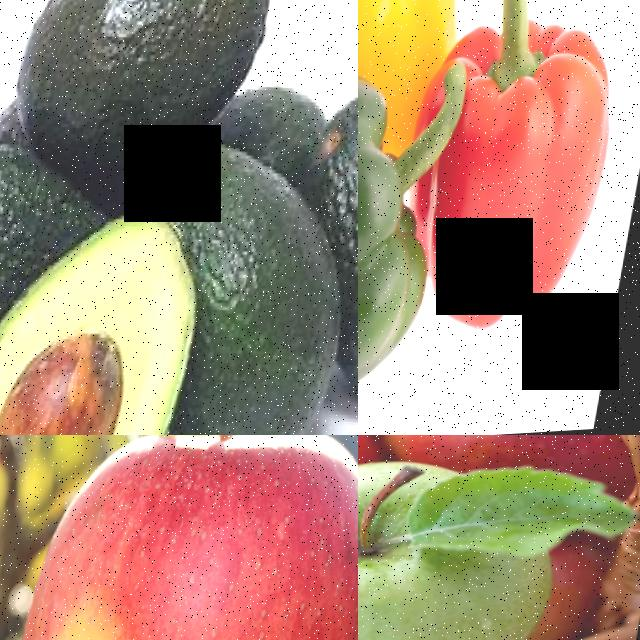apple: (0, 435, 358, 640), (358, 435, 566, 640), (363, 435, 640, 502)
avocado: (1, 0, 285, 197), (0, 202, 222, 435), (160, 175, 349, 435)
bell pepper: (415, 0, 640, 350), (358, 103, 469, 435), (358, 0, 487, 111)
